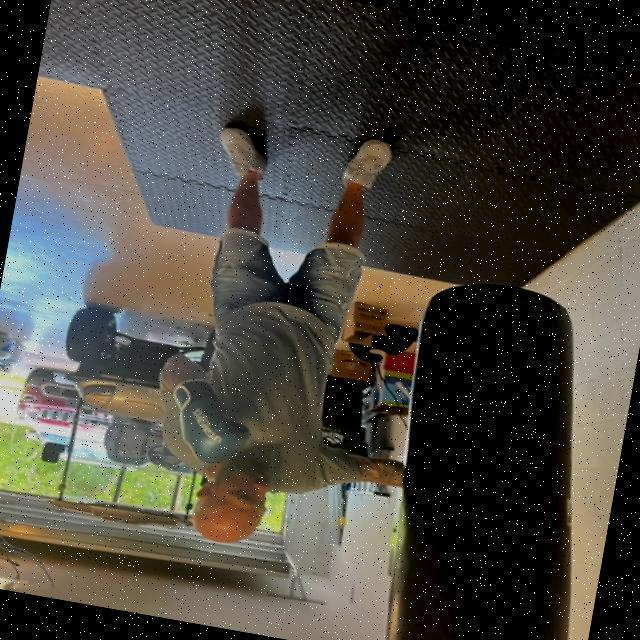hook: (145, 334, 447, 592)
